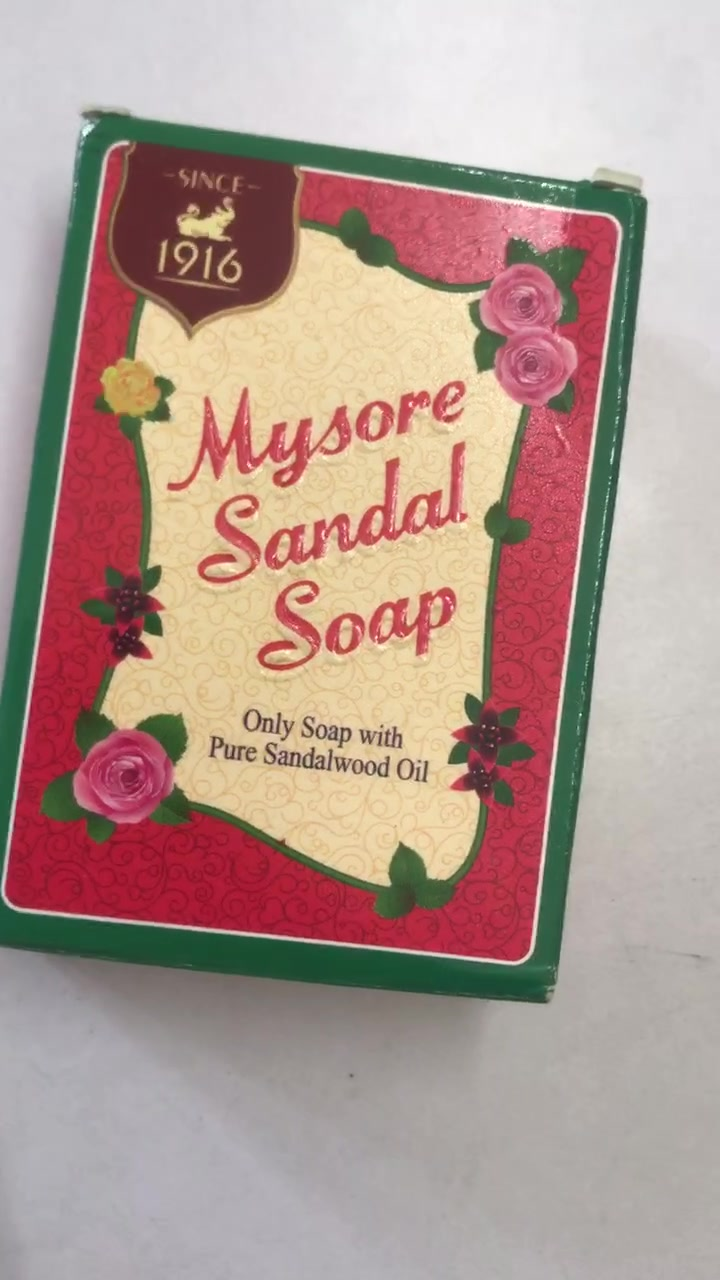mysore sandal soap: (5, 116, 648, 1007)
